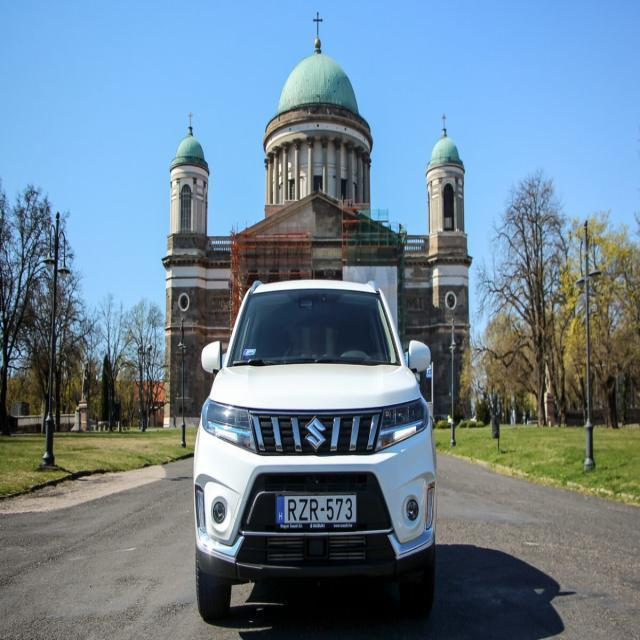licence: (274, 488, 361, 531)
